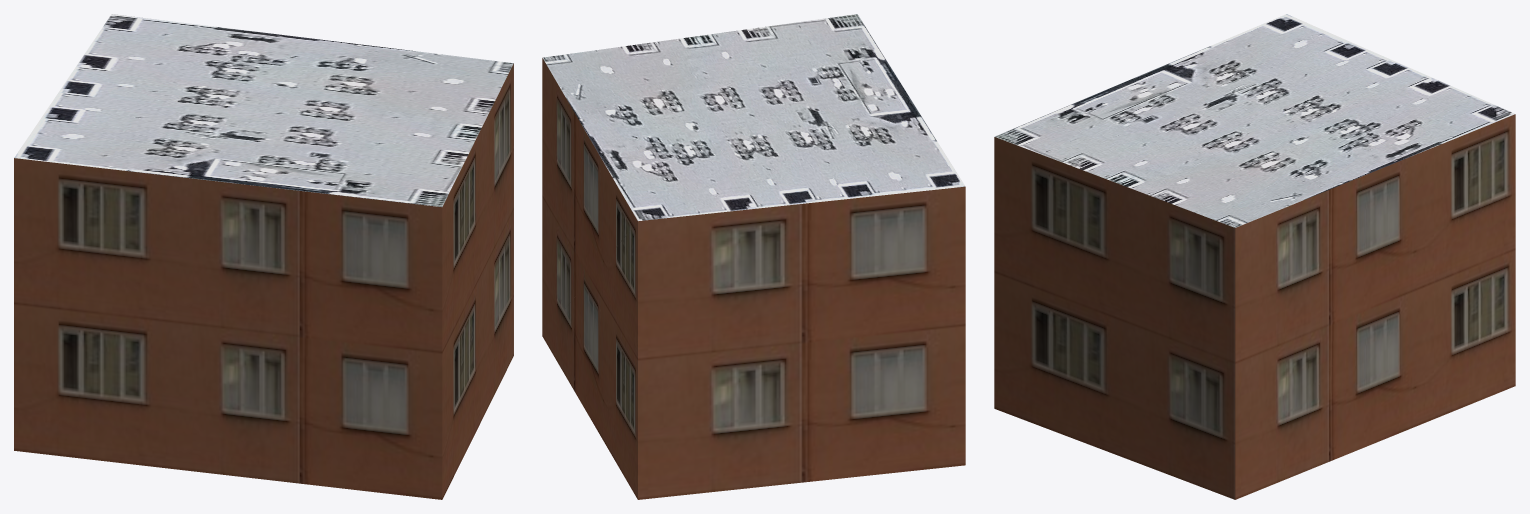
Rendered from ResTex__1426.fbx.
3 renders of one model, left to right at view 1: azimuth 30°, elevation 25°; view 2: azimuth 150°, elevation 25°; view 3: azimuth 270°, elevation 25°, orthographic. The views are drawn at different scales.
Parts seen in each view (by area): view 1: CityEngineMaterial_20_m, CityEngineMaterial_2_m; view 2: CityEngineMaterial_20_m, CityEngineMaterial_2_m; view 3: CityEngineMaterial_20_m, CityEngineMaterial_2_m.
Part boxes in pixels (x1,y1,x2,y2): CityEngineMaterial_20_m: (14,63,513,499); CityEngineMaterial_2_m: (14,14,513,206); CityEngineMaterial_20_m: (542,58,965,499); CityEngineMaterial_2_m: (543,14,965,221); CityEngineMaterial_20_m: (994,114,1515,499); CityEngineMaterial_2_m: (994,14,1515,227).
Size of the model in its own units: 10.13 by 6 by 10.43.
2 materials, 2 textured.
